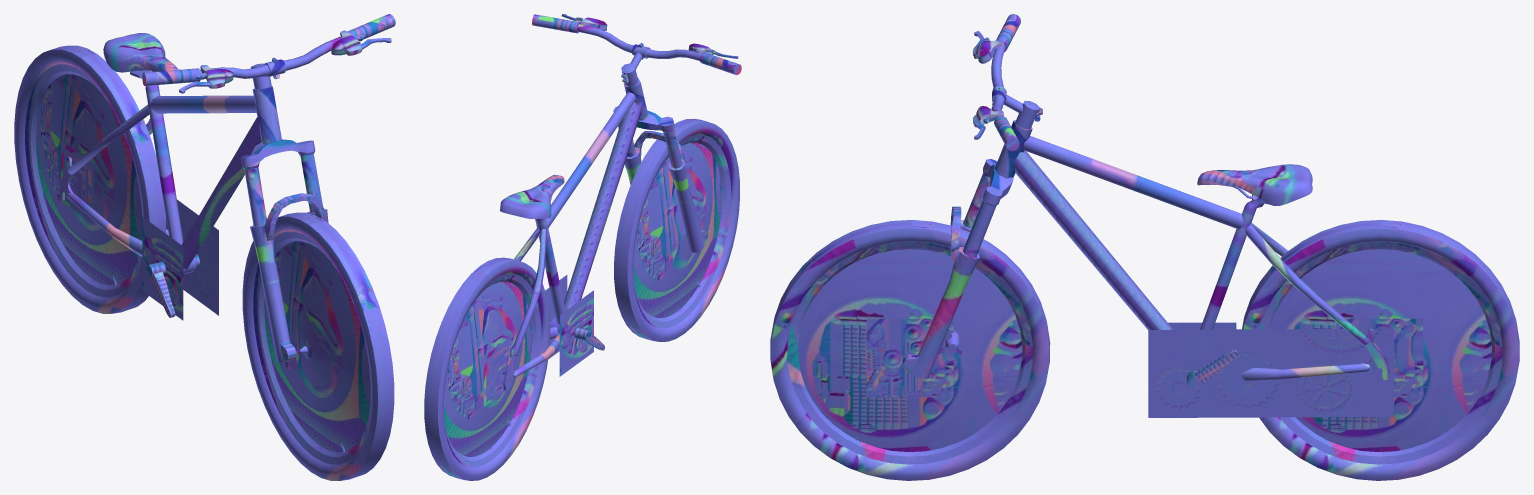
File: Bicycle.glb
The picture shows the model from 3 angles, left to right: view 1: azimuth 30°, elevation 25°; view 2: azimuth 150°, elevation 25°; view 3: azimuth 270°, elevation 25°; orthographic projection. The views are drawn at different scales.
Parts seen in each view (by area): view 1: Bicycle; view 2: Bicycle; view 3: Bicycle.
Boxes of the visible parts, bbox=[...] form: Bicycle: bbox=[14, 14, 395, 480]; Bicycle: bbox=[424, 14, 741, 480]; Bicycle: bbox=[770, 14, 1519, 480].
Size of the model in its own units: 6.96 by 10.42 by 17.62.
Materials: 2 (2 with a texture image).
